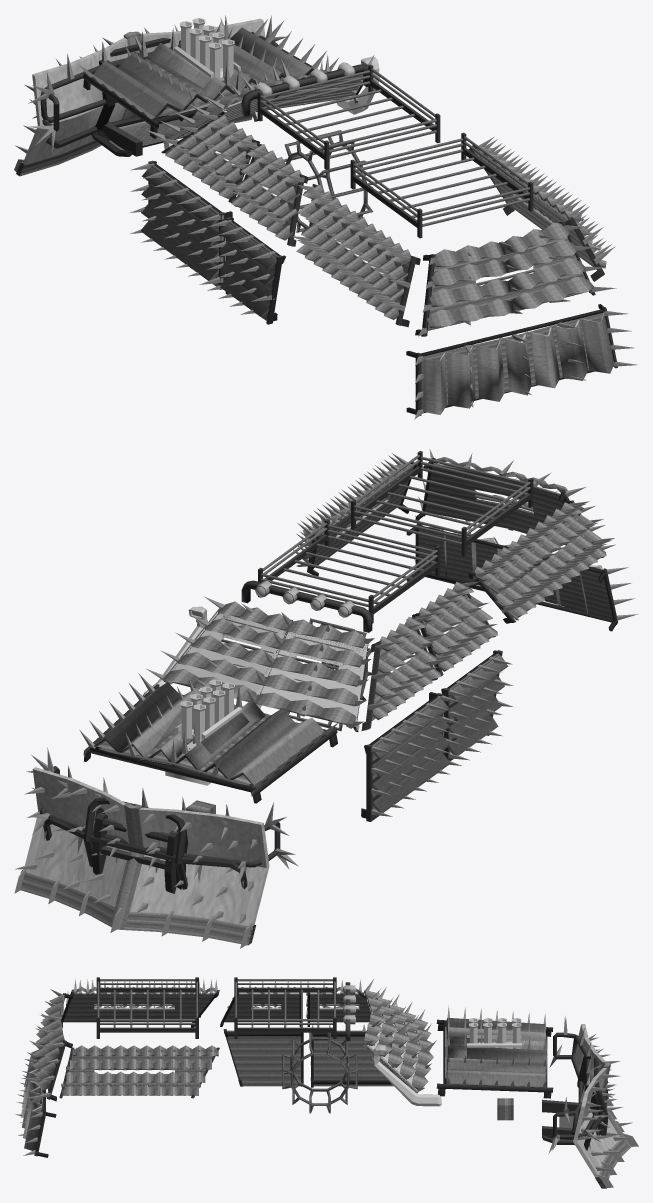
File: CarWagonArmor.fbx
3 renders of one model, top to bottom at view 1: azimuth 30°, elevation 25°; view 2: azimuth 150°, elevation 25°; view 3: azimuth 270°, elevation 25°, orthographic. The views are drawn at different scales.
Visible parts, largest first — view 1: windowreinforcedrear, roofrack, trunkreinforcedrear, plow, hoodreinforcedfront, windowheavyspikedrear, windowheavyrear, doorfrontreinforcedleft, hoodreinforcedfrontscoop, windowfrontreinforcedleft, windowrearreinforcedleft, doorrearreinforcedleft (+23 smaller); view 2: plow, roofrack, windowreinforcedfront, plow_spiked, hoodreinforcedfrontscoop, windowreinforcedrear, windowheavyrear, hoodreinforcedfront, doorfrontreinforcedleft, windowheavyfront, windowheavyspikedrear, trunkheavyrear (+23 smaller); view 3: windowreinforcedrear, roofrack, windowheavyrear, hoodreinforcedfront, hoodreinforcedfrontscoop, plow, windowreinforcedfront, doorrearheavyleft, doorfrontheavyleft, windowheavyspikedrear, doorrearheavyspikedleft, chaintires (+23 smaller).
Part boxes in pixels (x1,y1,x2,y2): windowreinforcedrear: (296, 147, 606, 327); roofrack: (257, 64, 533, 238); trunkreinforcedrear: (421, 309, 613, 414); plow: (14, 18, 265, 176); hoodreinforcedfront: (93, 27, 314, 124); windowheavyspikedrear: (297, 137, 616, 336); windowheavyrear: (307, 145, 604, 336); doorfrontreinforcedleft: (141, 163, 221, 286); hoodreinforcedfrontscoop: (84, 27, 310, 128); windowfrontreinforcedleft: (165, 115, 255, 198); windowrearreinforcedleft: (231, 144, 303, 240); doorrearreinforcedleft: (218, 220, 280, 320); plow: (14, 767, 269, 948); roofrack: (258, 451, 533, 623); windowreinforcedfront: (163, 601, 366, 725); plow_spiked: (15, 770, 266, 925); hoodreinforcedfrontscoop: (87, 684, 335, 796); windowreinforcedrear: (296, 457, 606, 620); windowheavyrear: (307, 458, 604, 623); hoodreinforcedfront: (94, 682, 330, 789); doorfrontreinforcedleft: (369, 696, 450, 820); windowheavyfront: (168, 608, 367, 731); windowheavyspikedrear: (296, 449, 615, 606); trunkheavyrear: (406, 524, 617, 630); windowreinforcedrear: (32, 986, 218, 1095); roofrack: (96, 977, 336, 1038); windowheavyrear: (46, 990, 219, 1101); hoodreinforcedfront: (443, 1018, 547, 1087); hoodreinforcedfrontscoop: (443, 1017, 548, 1088); plow: (571, 1024, 638, 1188); windowreinforcedfront: (363, 990, 433, 1088); doorrearheavyleft: (223, 1029, 303, 1086); doorfrontheavyleft: (311, 1032, 406, 1087); windowheavyspikedrear: (27, 979, 218, 1098); doorrearheavyspikedleft: (229, 1026, 300, 1086); chaintires: (282, 1032, 357, 1113).
Bounding box in the file's own units: 278 × 200 × 759.
